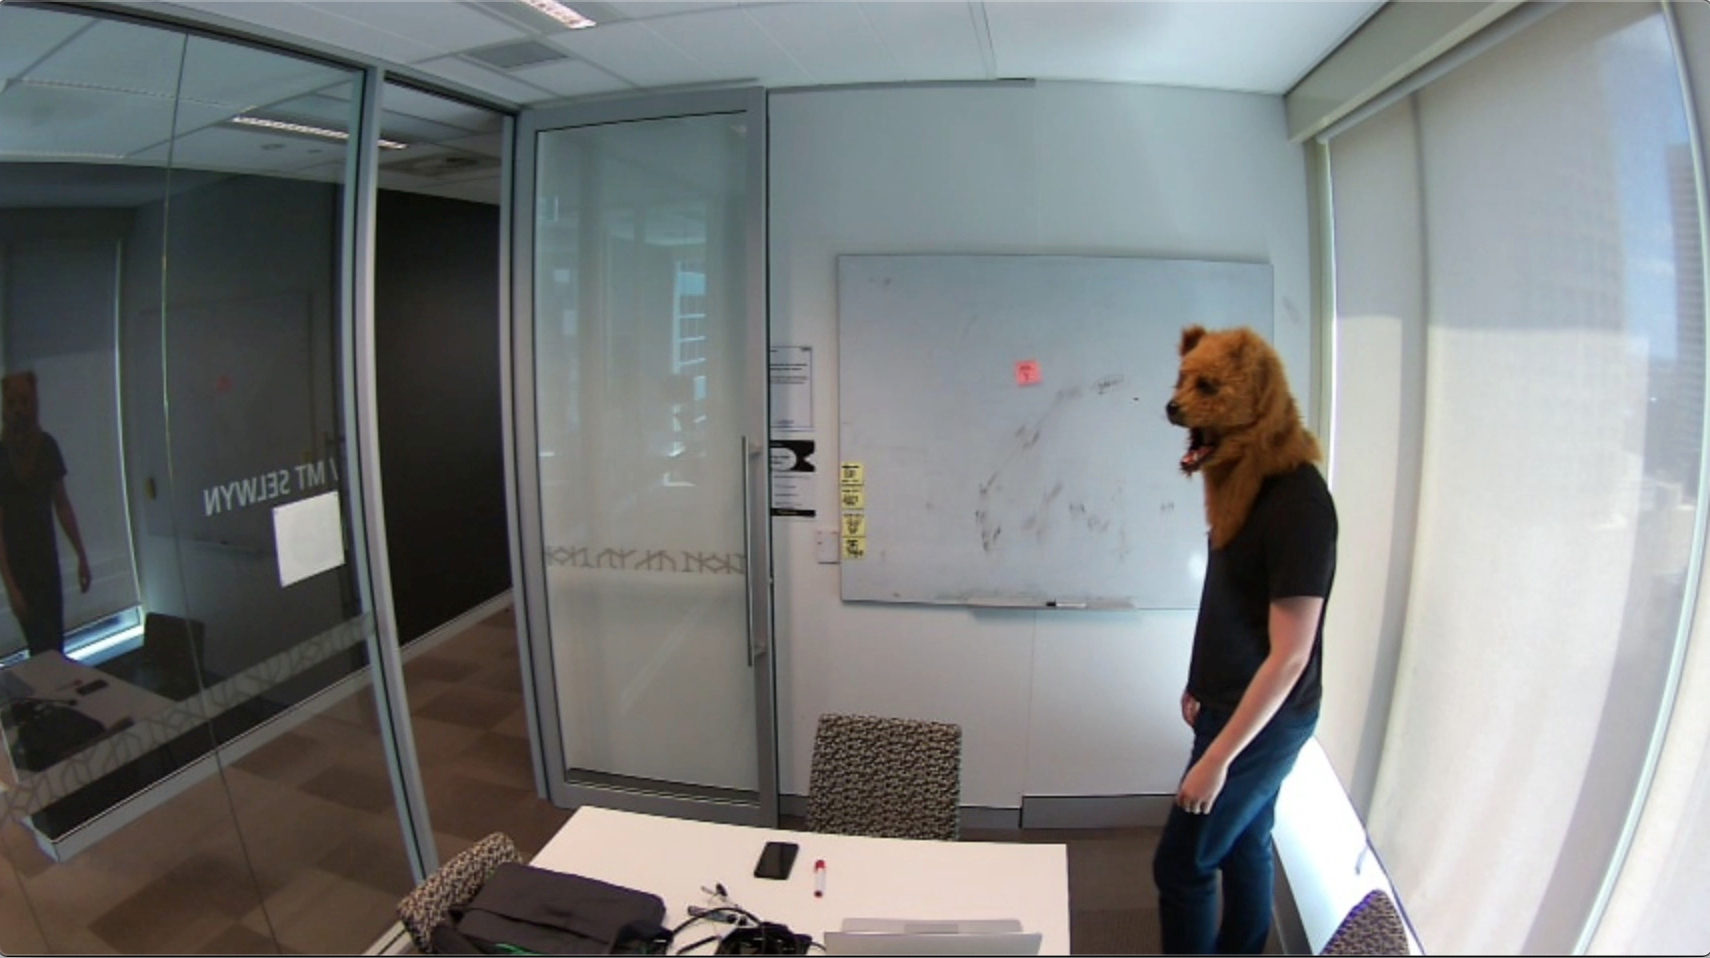Bear: (1159, 323, 1299, 481)
